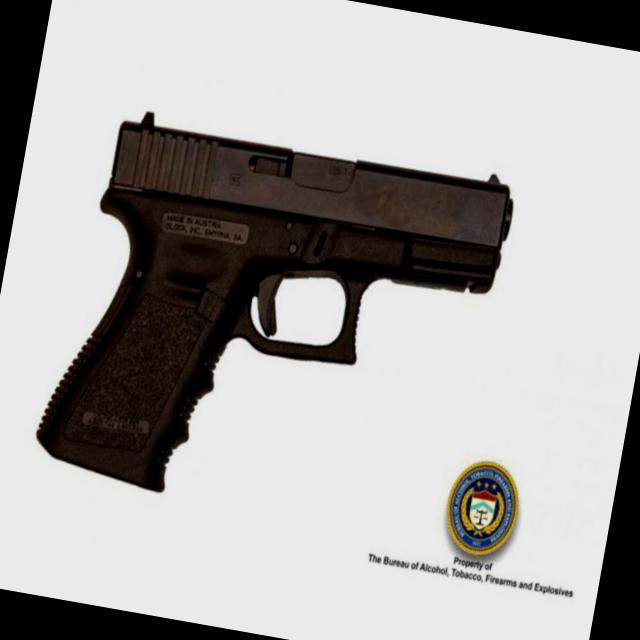handgun: (19, 94, 522, 564)
